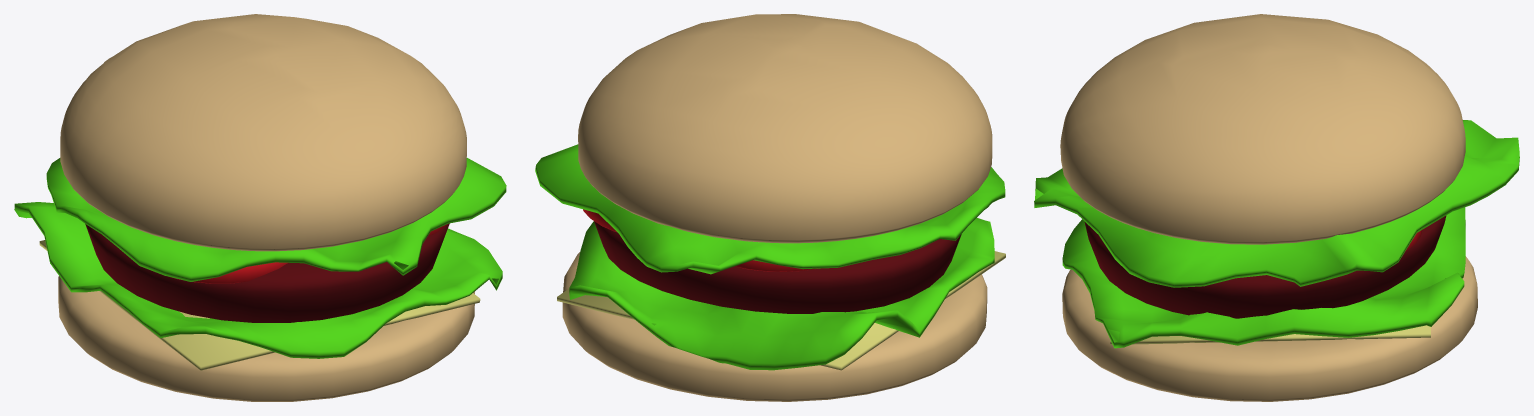
Rendered from hamburger.fbx.
3 views of the same model, side by side, from view 1: azimuth 30°, elevation 25°; view 2: azimuth 150°, elevation 25°; view 3: azimuth 270°, elevation 25° (orthographic). The views are drawn at different scales.
Parts seen in each view (by area): view 1: top bun, bottom_bun, lettuce, meat, lettuce_001, cheese, tomato; view 2: top bun, lettuce, bottom_bun, lettuce_001, meat, cheese, tomato_003; view 3: top bun, bottom_bun, lettuce_001, lettuce, meat, cheese.
Part boxes in pixels (x1,y1,x2,y2): top bun: (60, 14, 466, 251); bottom_bun: (58, 276, 474, 401); lettuce: (14, 202, 502, 358); meat: (85, 223, 449, 322); lettuce_001: (46, 158, 506, 281); cheese: (39, 240, 480, 370); tomato: (174, 262, 288, 283); top bun: (578, 14, 992, 243); lettuce: (569, 218, 994, 370); bottom_bun: (562, 252, 987, 401); lettuce_001: (535, 144, 1005, 274); meat: (594, 221, 961, 313); cheese: (557, 251, 1005, 370); tomato_003: (735, 260, 817, 271); top bun: (1060, 14, 1465, 244); bottom_bun: (1062, 256, 1477, 401); lettuce_001: (1034, 120, 1519, 287); lettuce: (1062, 207, 1465, 348); meat: (1084, 215, 1446, 318); cheese: (1110, 325, 1430, 344).
Size of the model in its own units: 0.4887 by 0.3367 by 0.5372.
